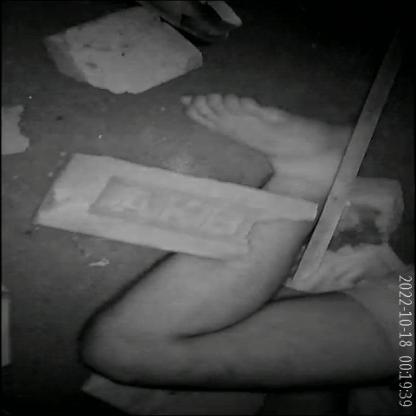leg: (59, 82, 383, 396)
